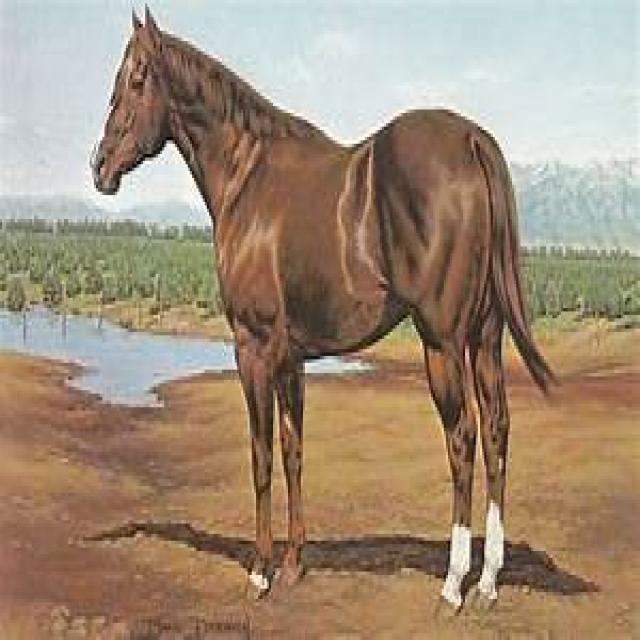horse: (87, 10, 561, 609)
